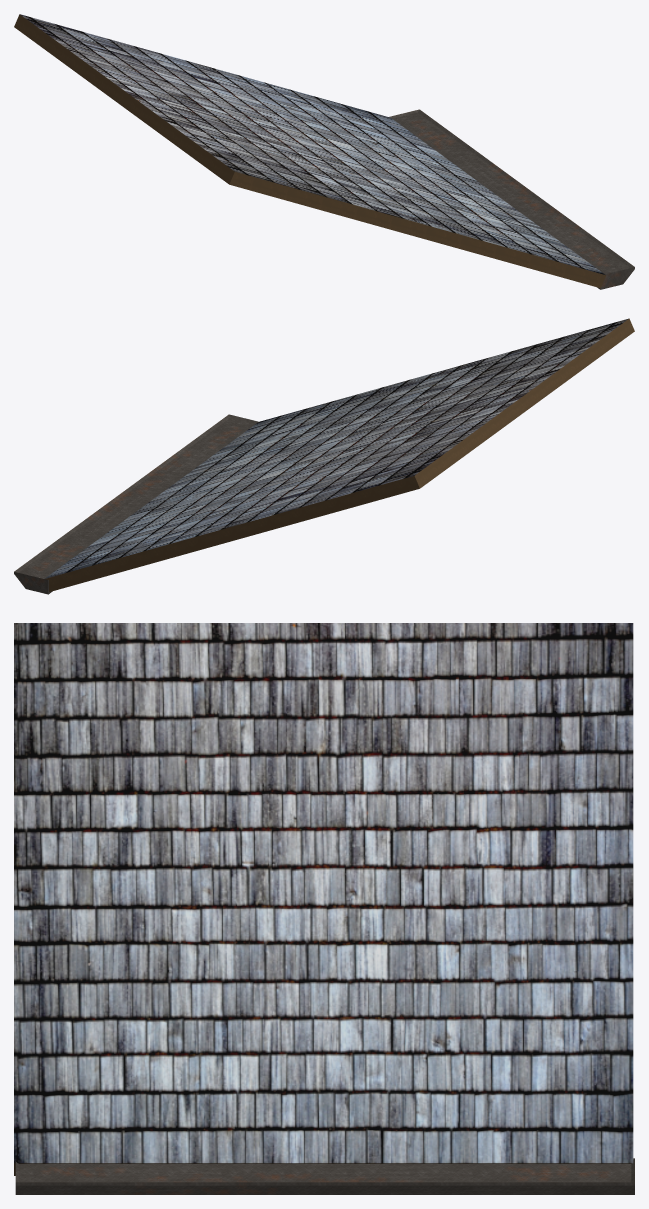
The model's file is 26SlopeRoofWGutter.fbx.
3 views of the same model, one above another, from view 1: azimuth 30°, elevation 25°; view 2: azimuth 150°, elevation 25°; view 3: azimuth 270°, elevation 25° (orthographic). The views are drawn at different scales.
Visible parts, largest first — view 1: 26RoofwGutter; view 2: 26RoofwGutter; view 3: 26RoofwGutter.
Part boxes in pixels (box(x1,y1,x2,y2)): 26RoofwGutter: box(14, 14, 634, 289); 26RoofwGutter: box(14, 318, 634, 594); 26RoofwGutter: box(14, 623, 634, 1194).
Size of the model in its own units: 345 by 169 by 317.
